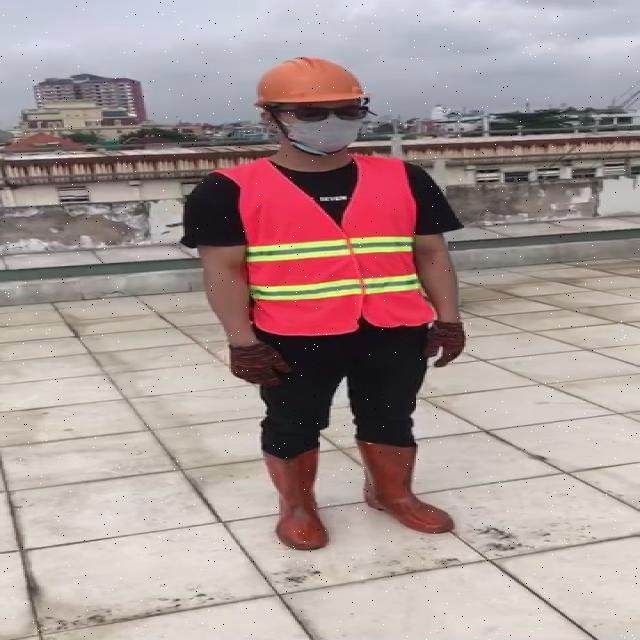Hard_hat: (243, 51, 373, 116)
Person: (179, 49, 475, 634)
Vest: (240, 150, 427, 340)
